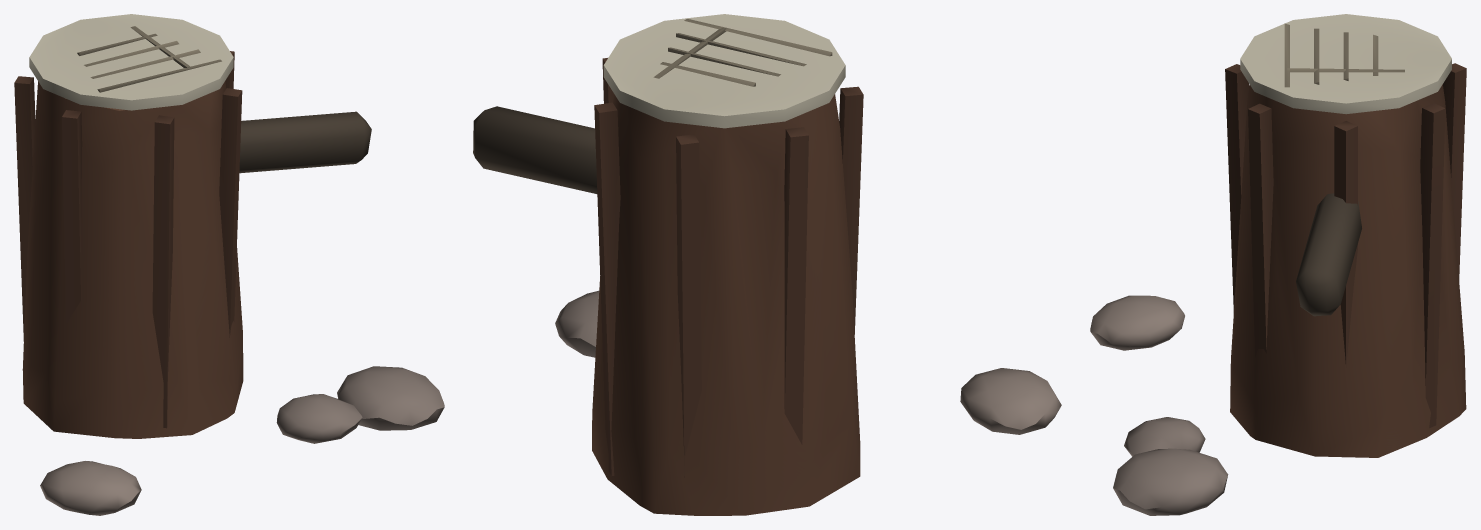
File: chart_post_a_lod1.glb
3 views of the same model, side by side, from view 1: azimuth 30°, elevation 25°; view 2: azimuth 150°, elevation 25°; view 3: azimuth 270°, elevation 25° (orthographic). The views are drawn at different scales.
Visible parts, largest first — view 1: Surface.001; view 2: Surface.001; view 3: Surface.001.
Part boxes in pixels (box(x1,y1,x2,y2)): Surface.001: box(14, 14, 444, 515); Surface.001: box(473, 14, 1061, 515); Surface.001: box(1090, 14, 1466, 515).
Bounding box in the file's own units: 1.65 × 1.36 × 1.28.
